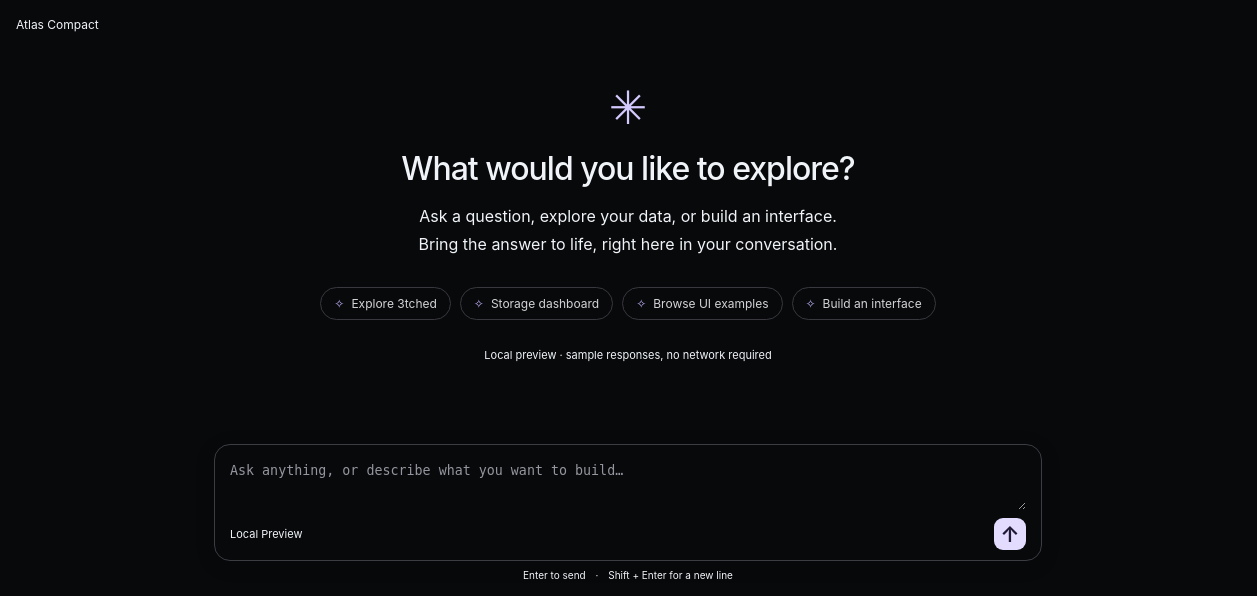
Test: Svelte chat interactions › sends a reference suggestion and resets the transcript with focus restored
The image size is (1257, 596).
Click the button "✧ Storage dashboard" at point(536, 304), box x1=460 y1=287 x2=613 y2=320
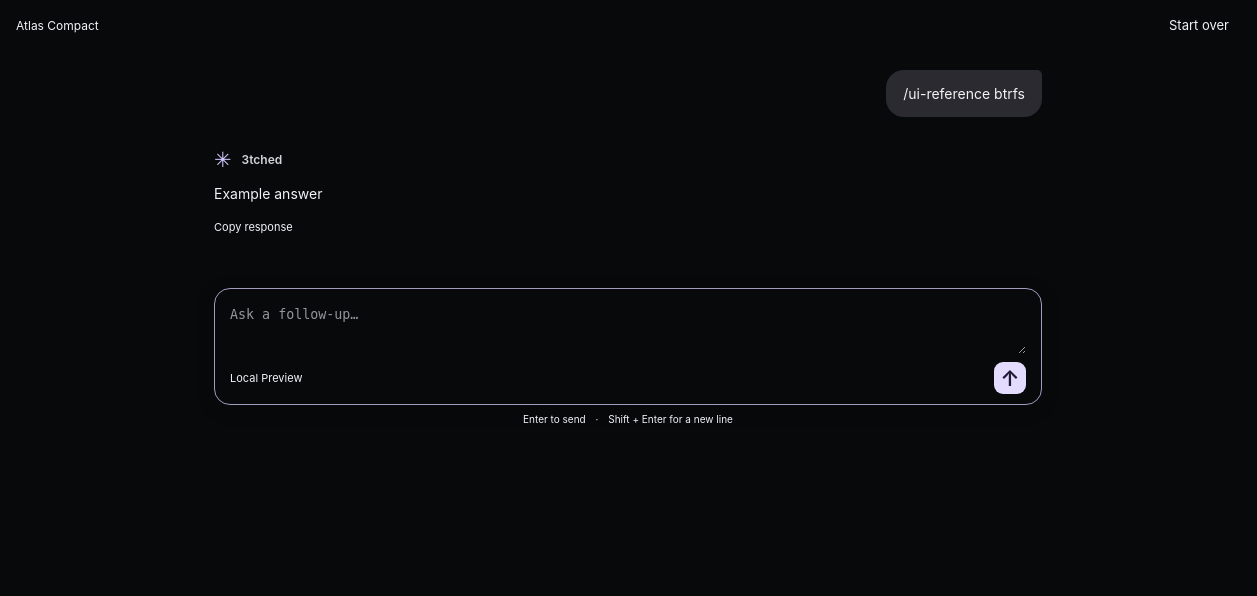
Expected: the text "Example answer" is shown, x1=214 y1=185 x2=322 y2=202
Expected: the text "/ui-reference btrfs" is shown, x1=886 y1=70 x2=1042 y2=117
Click the button "Start over" at point(1199, 25), box x1=1158 y1=10 x2=1240 y2=40
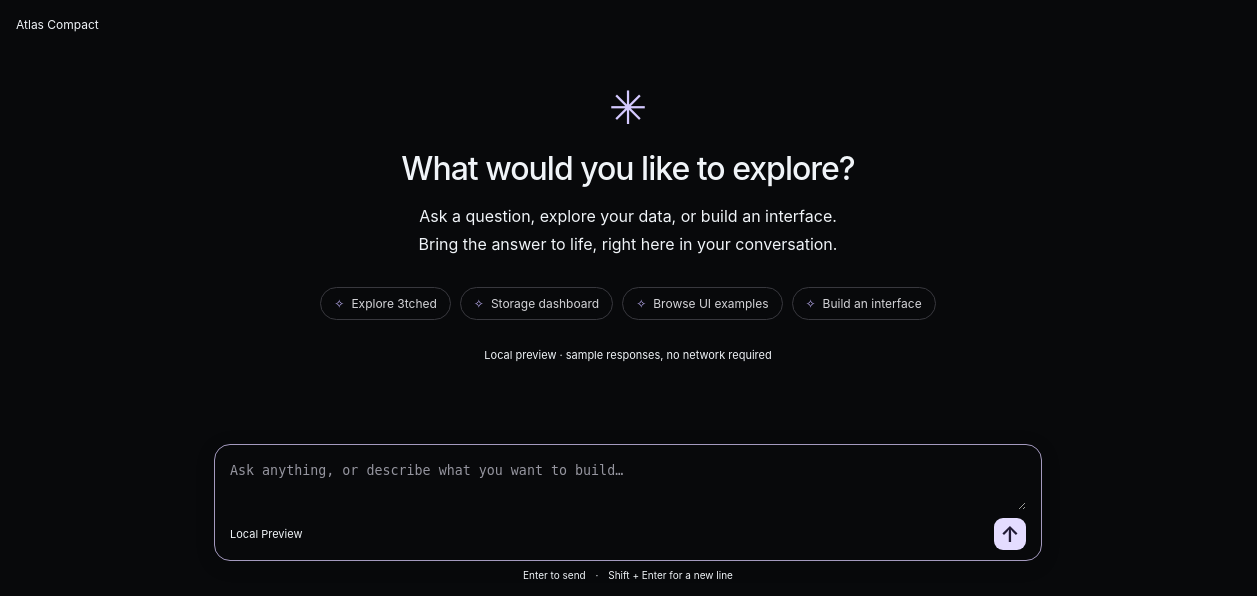
Expected: the text "Example answer" is gone
